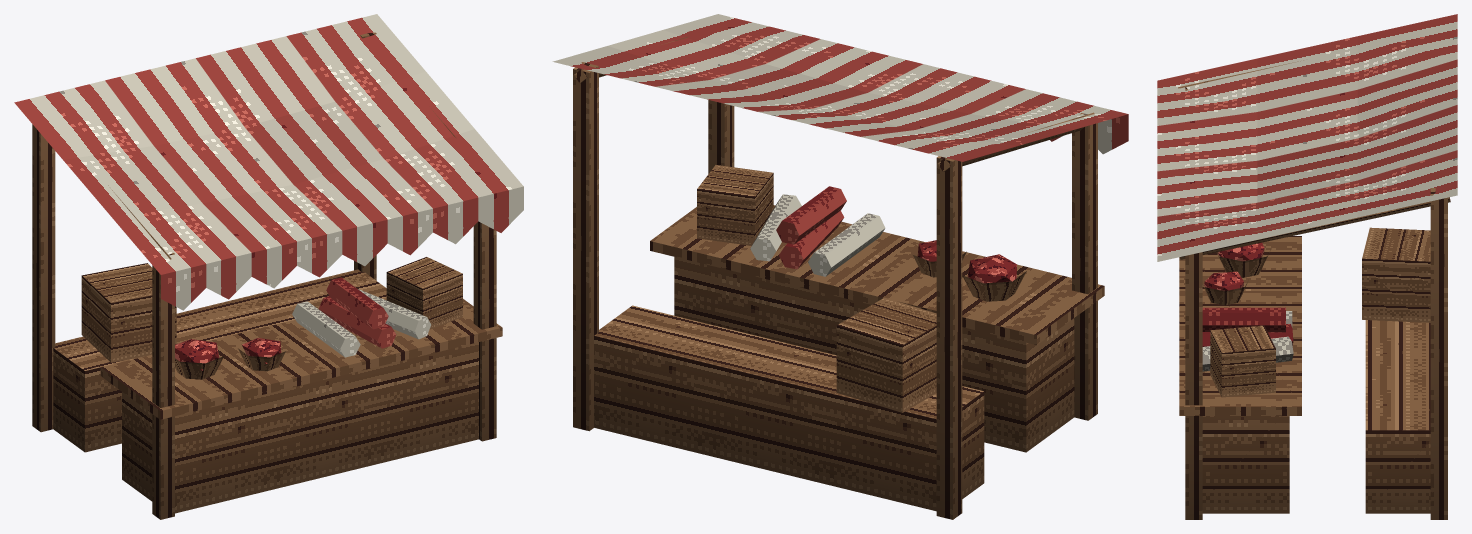
Rendered from market_stall.glb.
The picture shows the model from 3 angles, left to right: view 1: azimuth 30°, elevation 25°; view 2: azimuth 150°, elevation 25°; view 3: azimuth 270°, elevation 25°; orthographic projection. The views are drawn at different scales.
Parts seen in each view (by area): view 1: market_stall, roof_cloth; view 2: market_stall, roof_cloth; view 3: market_stall, roof_cloth.
Part boxes in pixels (bbox=[...]): market_stall: bbox=[32, 32, 502, 519]; roof_cloth: bbox=[14, 14, 523, 310]; market_stall: bbox=[573, 36, 1104, 519]; roof_cloth: bbox=[552, 14, 1128, 161]; market_stall: bbox=[1178, 60, 1450, 519]; roof_cloth: bbox=[1157, 14, 1457, 261].
Bounding box in the file's own units: 3.5 × 2.98 × 2.45.
Materials: 6 (6 with a texture image).
